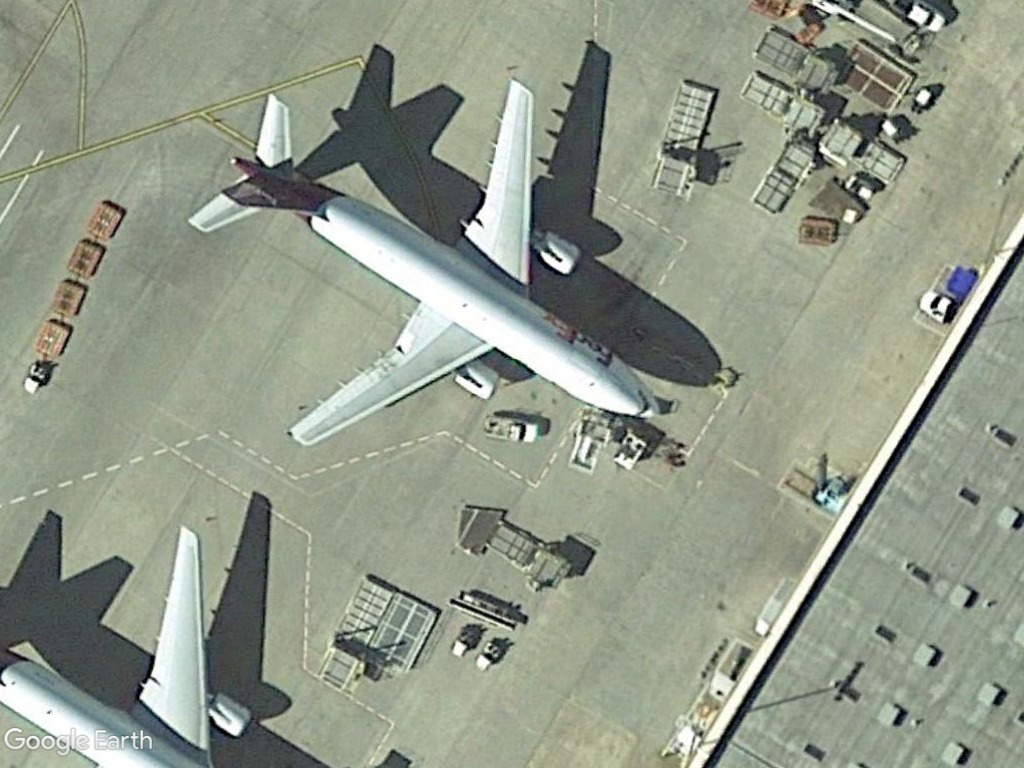airliner: (183, 63, 667, 450)
